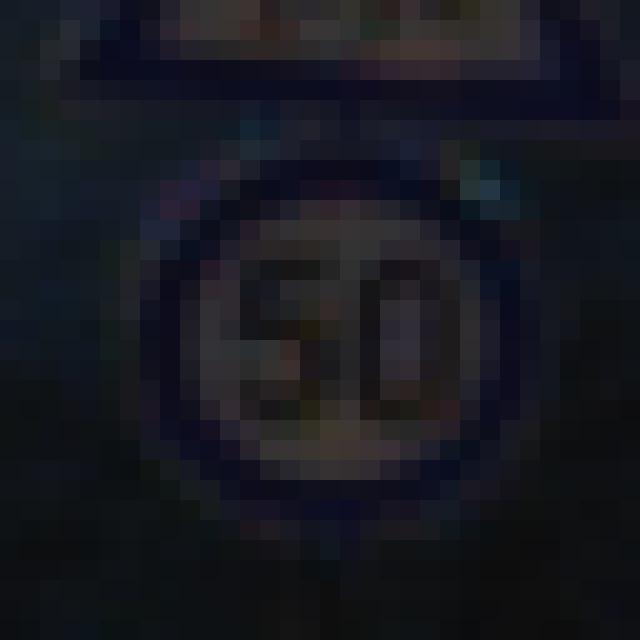SPEED LIMIT 50: (138, 170, 562, 528)
